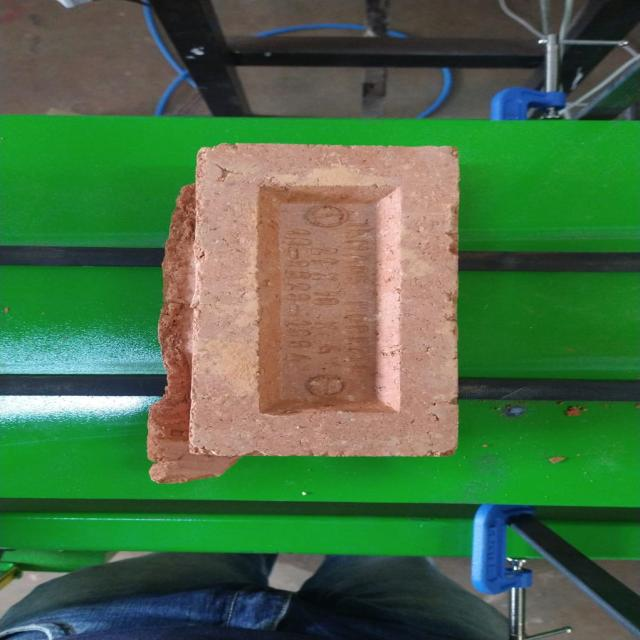bricks_ruin: (146, 144, 461, 485)
